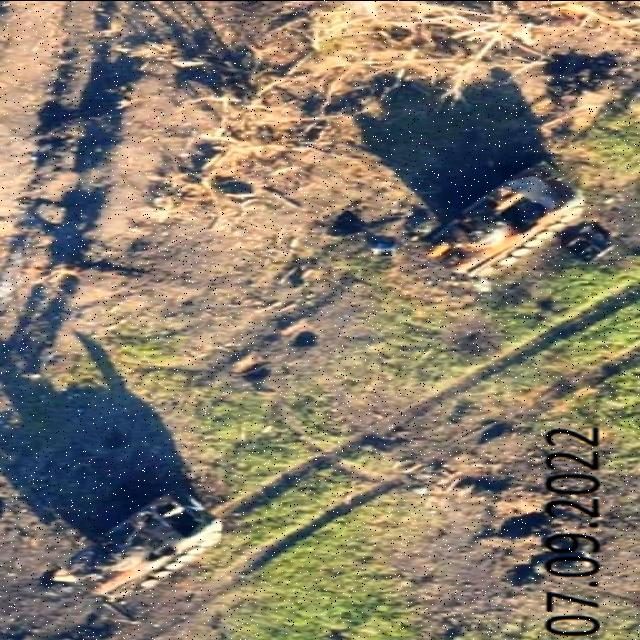APC-IFV: (409, 160, 593, 286), (58, 488, 229, 608)
